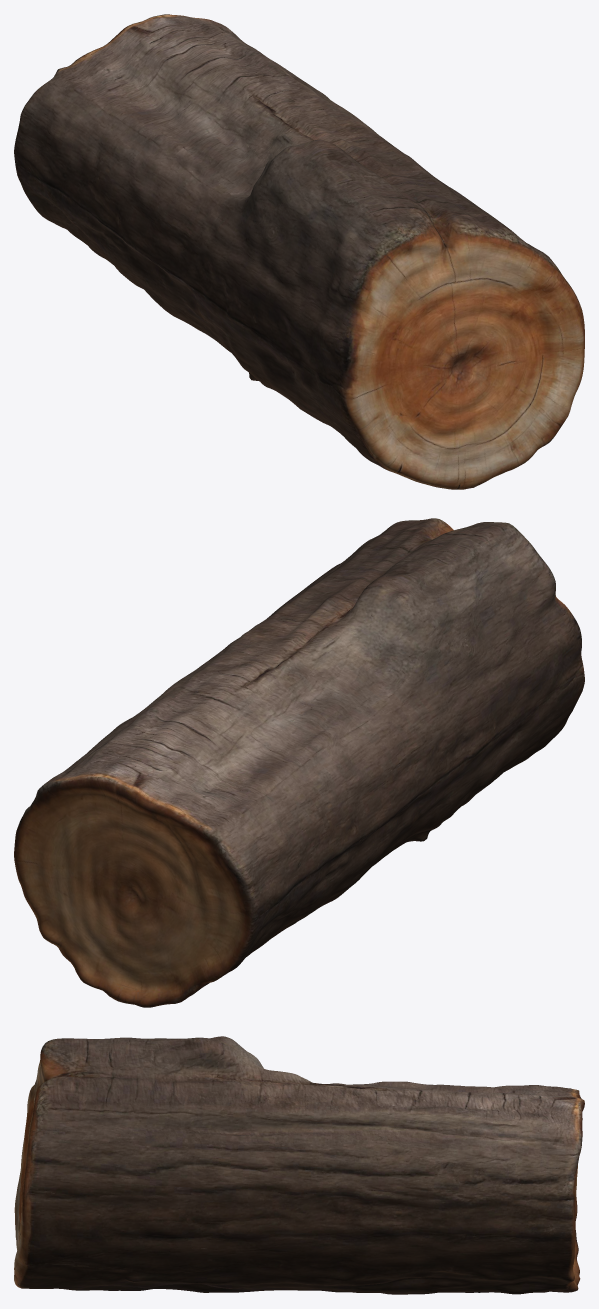
File: WoodLog4.fbx
3 renders of one model, top to bottom at view 1: azimuth 30°, elevation 25°; view 2: azimuth 150°, elevation 25°; view 3: azimuth 270°, elevation 25°, orthographic. The views are drawn at different scales.
Parts seen in each view (by area): view 1: Mesh_0; view 2: Mesh_0; view 3: Mesh_0.
Boxes of the visible parts, x1,y1,x2,y2 form: Mesh_0: [14, 14, 584, 489]; Mesh_0: [14, 518, 584, 1007]; Mesh_0: [14, 1036, 584, 1294].
Size of the model in its own units: 82.57 by 87.75 by 200.
1 material, 1 textured.
